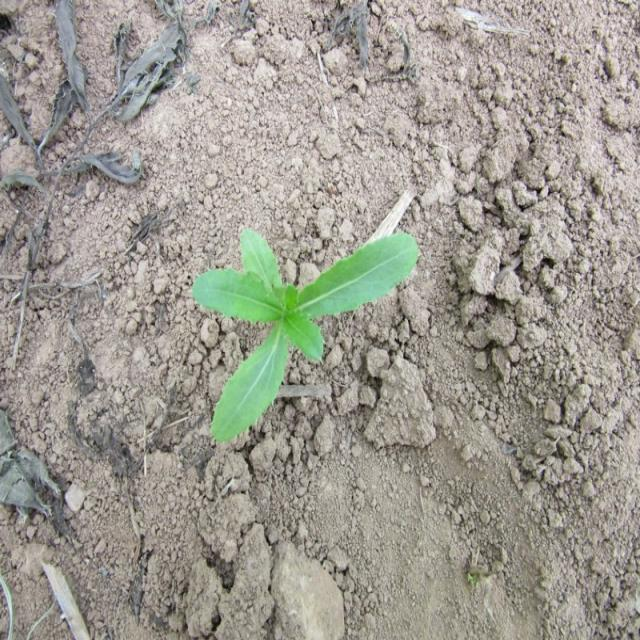cs: (192, 217, 424, 449)
